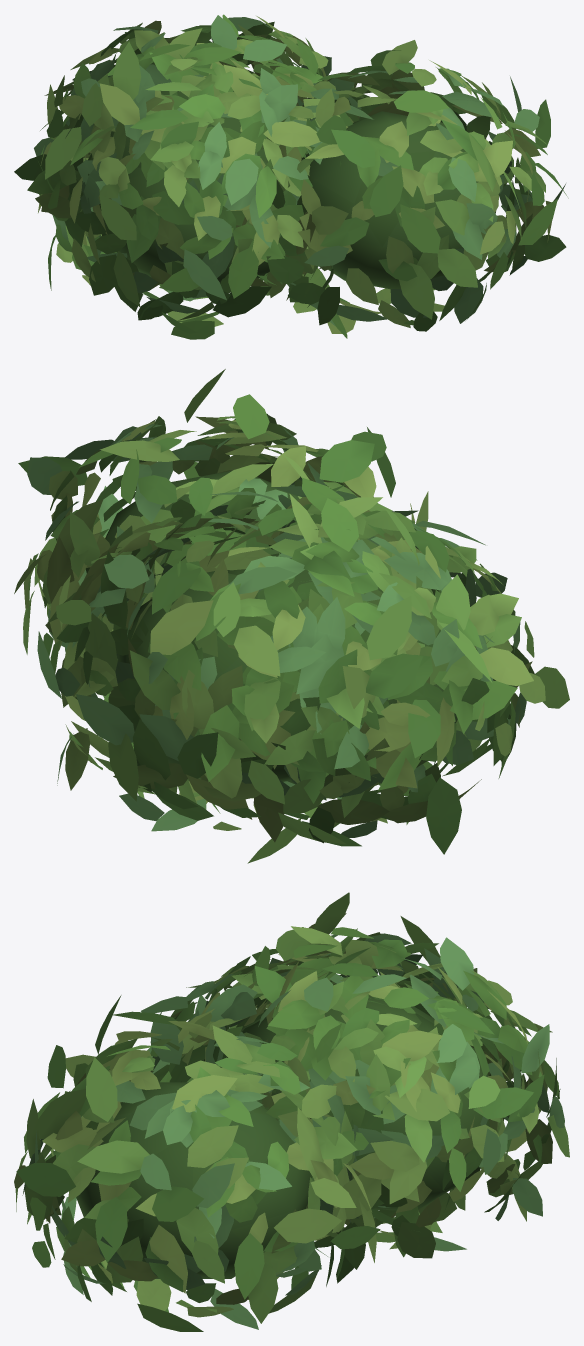
The model's file is bush_1.glb.
The picture shows the model from 3 angles, top to bottom: view 1: azimuth 30°, elevation 25°; view 2: azimuth 150°, elevation 25°; view 3: azimuth 270°, elevation 25°; orthographic projection. The views are drawn at different scales.
Visible parts, largest first — view 1: bush1; view 2: bush1; view 3: bush1.
Boxes of the visible parts, x1,y1,x2,y2 form: bush1: (14,14,568,339); bush1: (14,369,569,863); bush1: (14,892,569,1331).
Bounding box in the file's own units: 1.42 × 0.8557 × 1.36.
